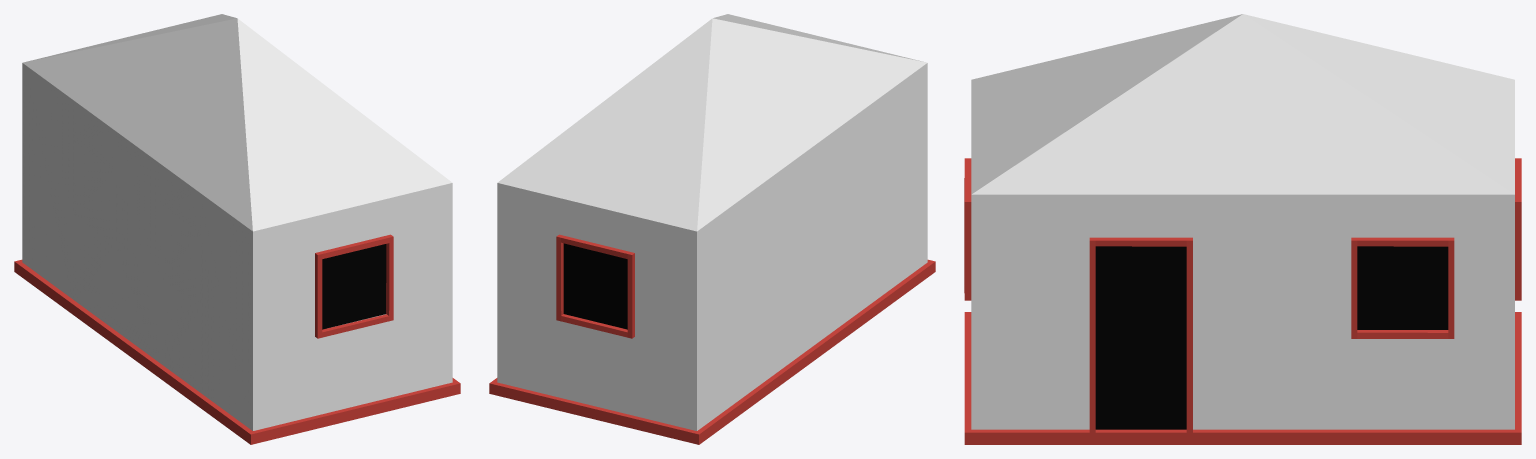
File: mediumhouse.glb
3 views of the same model, side by side, from view 1: azimuth 30°, elevation 25°; view 2: azimuth 150°, elevation 25°; view 3: azimuth 270°, elevation 25° (orthographic). The views are drawn at different scales.
Parts seen in each view (by area): view 1: Cube, Cone, Cube.008, Cube.003; view 2: Cube, Cone, Cube.008, Cube.001; view 3: Cube, Cone, Cube.008, Cube.007, Cube.002, Cube.003, Cube.001.
Part boxes in pixels (left/top/right/bottom): Cube: left=22, top=63, right=452, bottom=430; Cone: left=22, top=14, right=452, bottom=231; Cube.008: left=14, top=259, right=460, bottom=444; Cube.003: left=315, top=234, right=393, bottom=338; Cube: left=497, top=63, right=927, bottom=430; Cone: left=497, top=14, right=927, bottom=231; Cube.008: left=489, top=259, right=935, bottom=444; Cube.001: left=556, top=234, right=634, bottom=338; Cube: left=971, top=194, right=1514, bottom=429; Cone: left=971, top=14, right=1514, bottom=194; Cube.008: left=964, top=312, right=1521, bottom=444; Cube.007: left=1089, top=237, right=1192, bottom=443; Cube.002: left=1351, top=237, right=1454, bottom=338; Cube.003: left=964, top=158, right=971, bottom=300; Cube.001: left=1515, top=158, right=1521, bottom=300.
Bounding box in the file's own units: 2.1 × 3.01 × 4.1.
